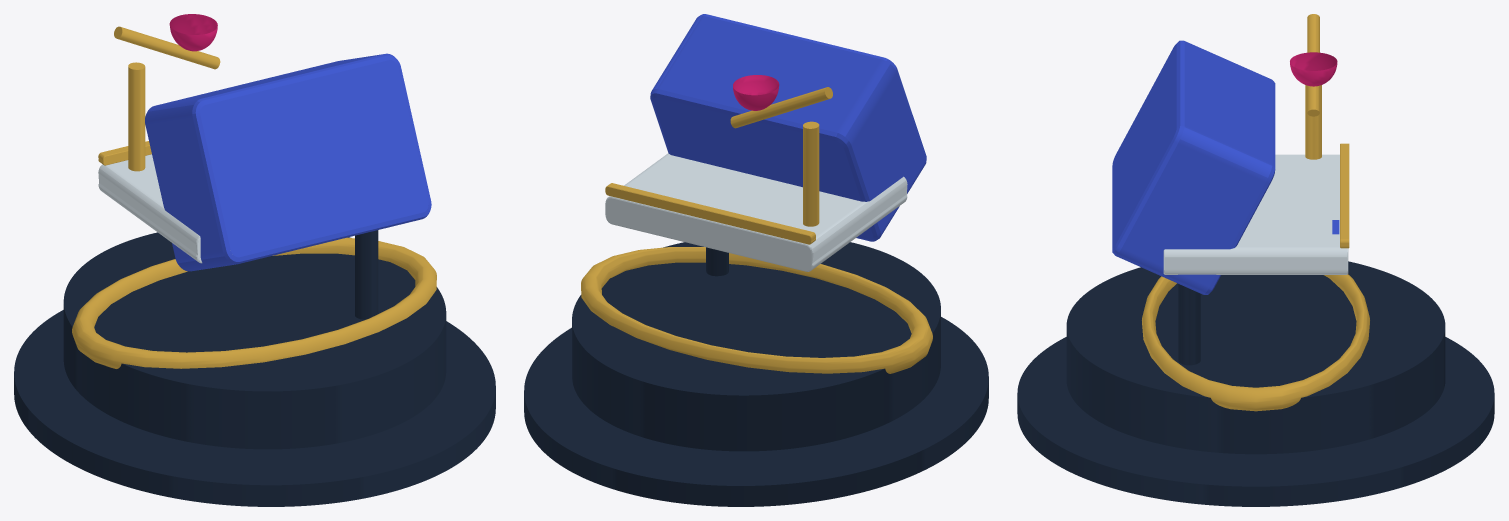
Rendered from 1346_城市运转图鉴_基站.glb.
The picture shows the model from 3 angles, left to right: view 1: azimuth 30°, elevation 25°; view 2: azimuth 150°, elevation 25°; view 3: azimuth 270°, elevation 25°; orthographic projection. The views are drawn at different scales.
Parts seen in each view (by area): view 1: card_1346; view 2: card_1346; view 3: card_1346.
Boxes of the visible parts, bbox=[...] form: card_1346: bbox=[14, 14, 495, 506]; card_1346: bbox=[524, 14, 988, 506]; card_1346: bbox=[1017, 14, 1494, 506].
Bounding box in the file's own units: 1.13 × 1 × 1.23.
